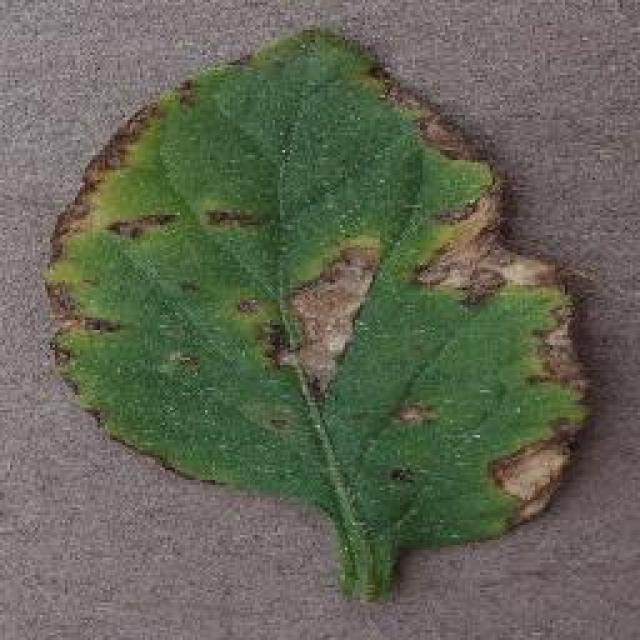Tomato___Bacterial_spot: (46, 27, 600, 609)
